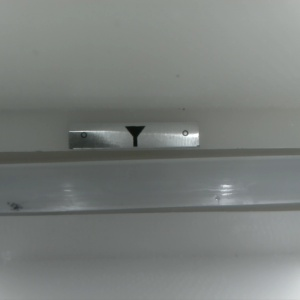finger: (125, 126, 145, 146)
